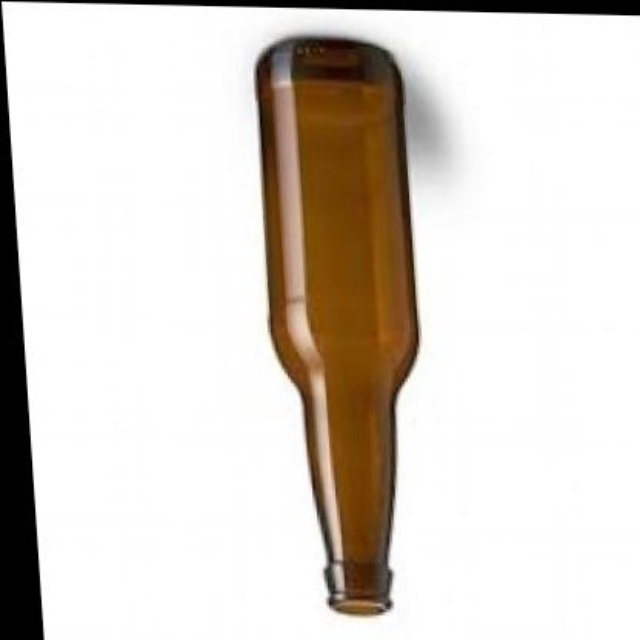trash: (257, 38, 417, 614)
